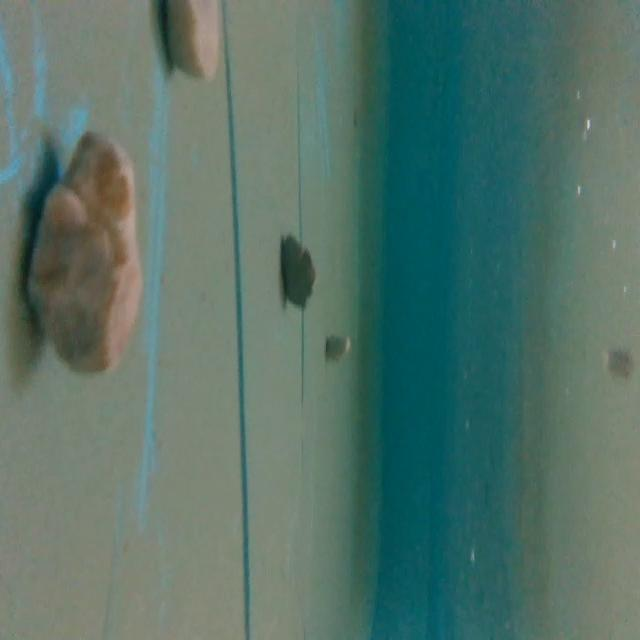rock: (21, 129, 144, 378), (155, 0, 224, 83), (272, 225, 317, 311), (321, 332, 356, 366)
